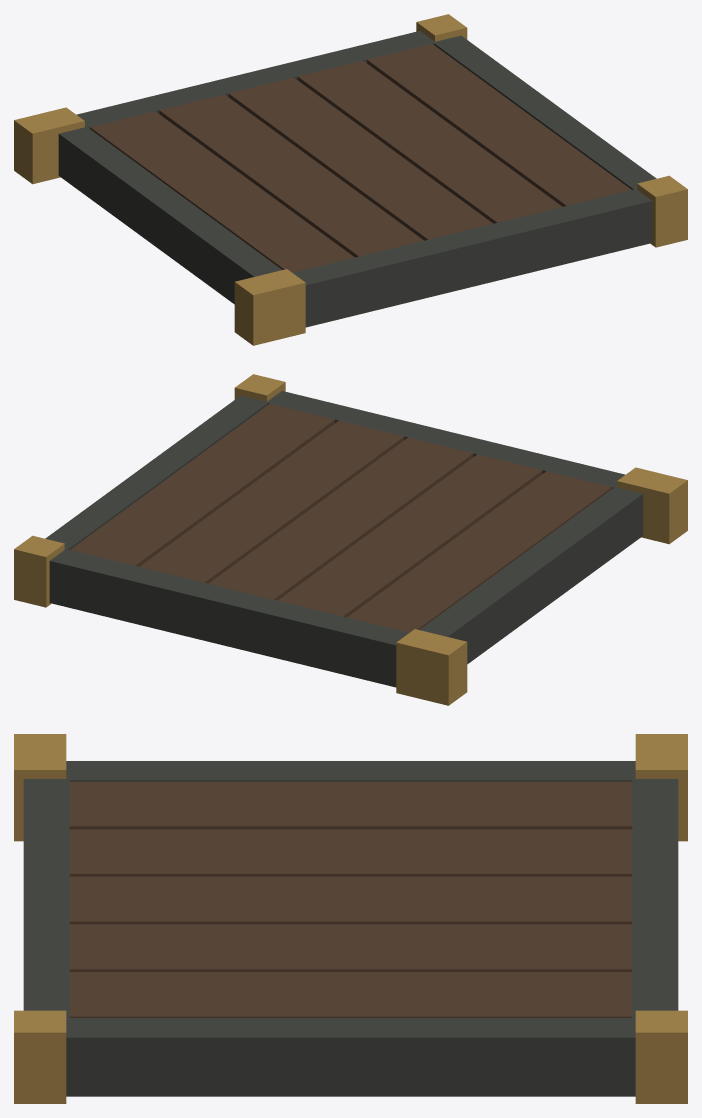
File: roof_wood.glb
The picture shows the model from 3 angles, top to bottom: view 1: azimuth 30°, elevation 25°; view 2: azimuth 150°, elevation 25°; view 3: azimuth 270°, elevation 25°; orthographic projection. The views are drawn at different scales.
Visible parts, largest first — view 1: roof_wood; view 2: roof_wood; view 3: roof_wood.
Boxes of the visible parts, x1=… form: roof_wood: x1=14, y1=14, x2=687, y2=345; roof_wood: x1=14, y1=374, x2=687, y2=705; roof_wood: x1=14, y1=734, x2=687, y2=1103.
Size of the model in its own units: 2.16 by 0.24 by 2.06.
